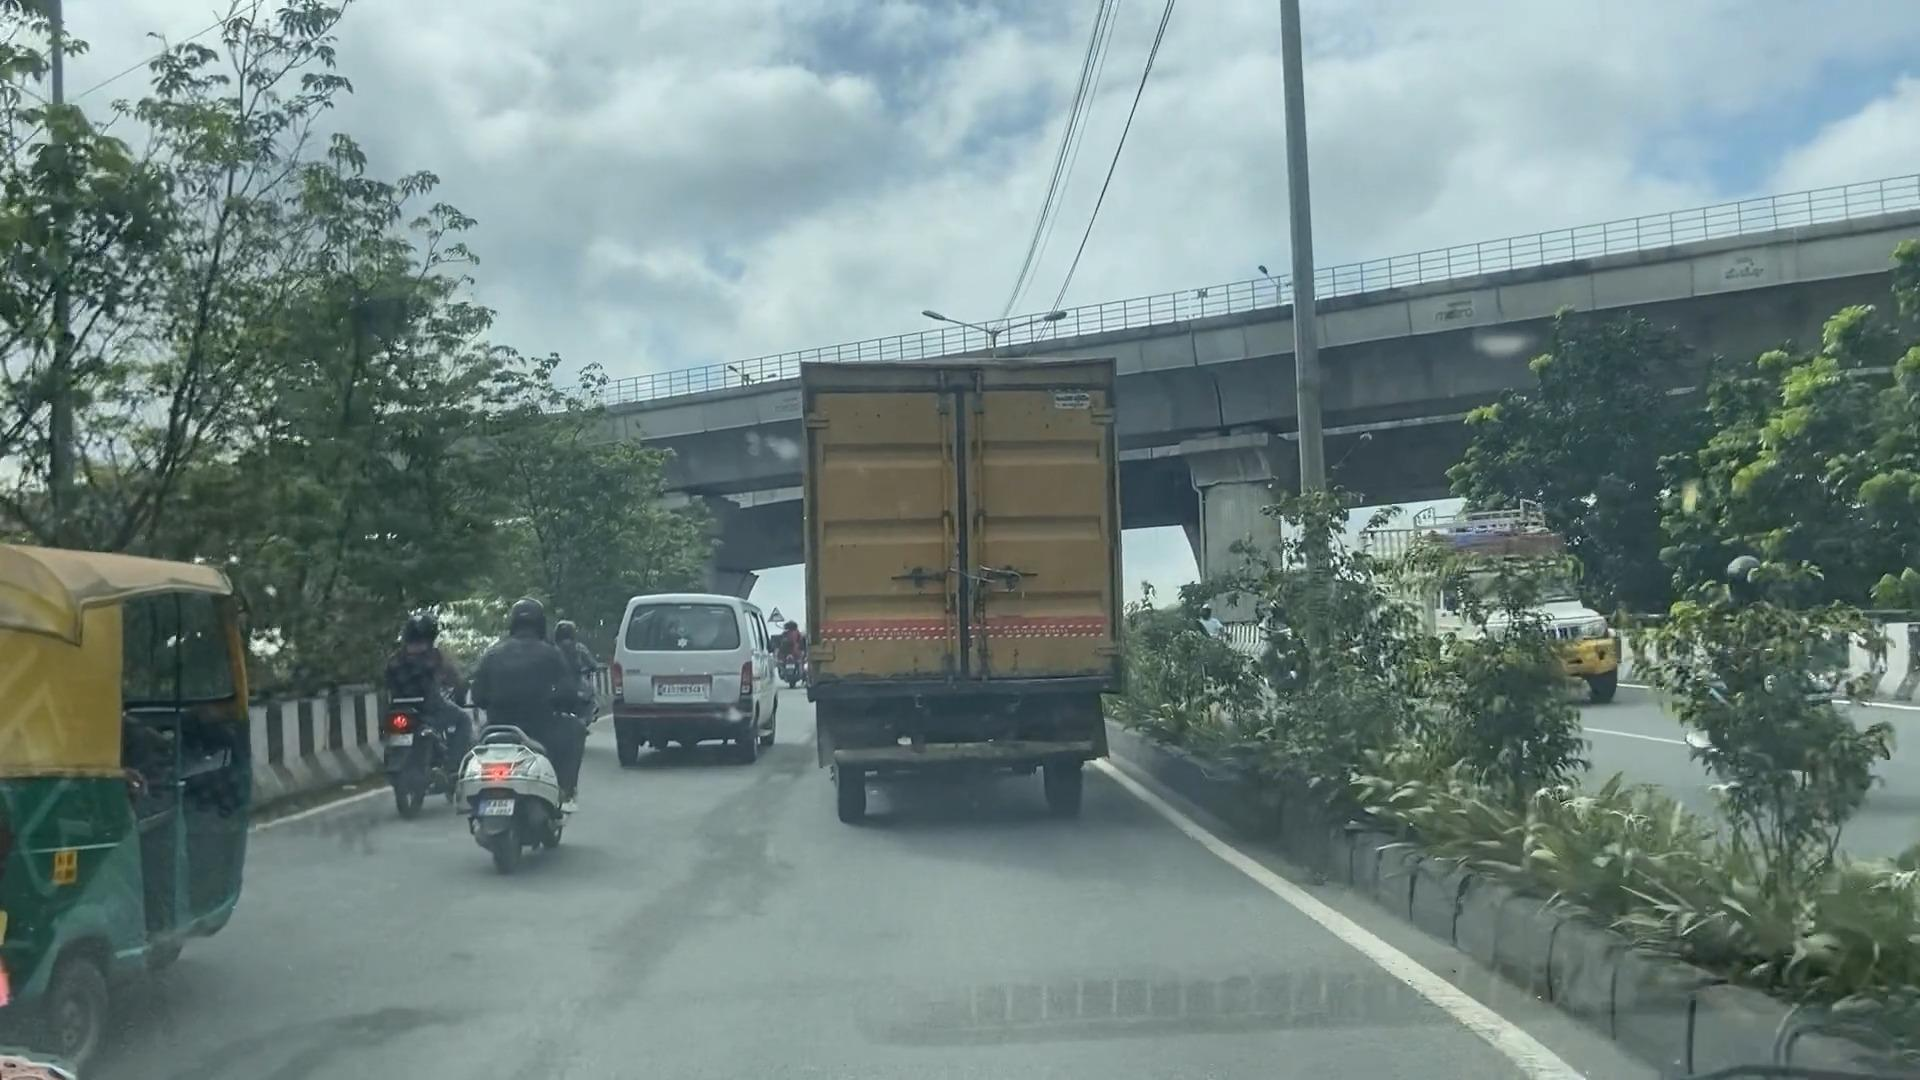HMV: (796, 367, 1098, 804)
LMV: (0, 547, 266, 1062), (613, 593, 757, 769), (480, 607, 564, 861), (384, 613, 431, 818)
